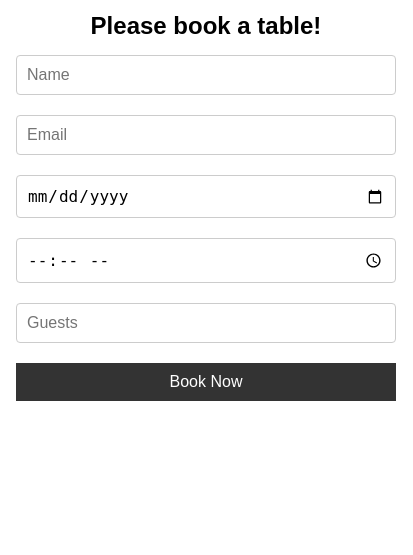
renders Booking component and shows error messages on invalid submission
The width and height of the screenshot is (413, 555).
Click the button "Book Now": (206,382) left=16, top=363, right=396, bottom=401
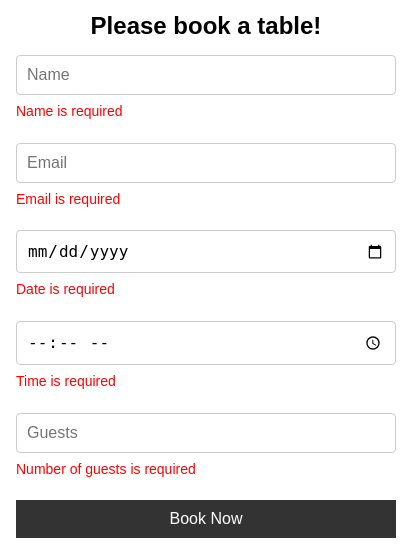
expect the text "Name is required" is shown: met, box left=16, top=103, right=123, bottom=119
expect the text "Email is required" is shown: met, box left=16, top=191, right=120, bottom=207
expect the text "Date is required" is shown: met, box left=16, top=281, right=115, bottom=297
